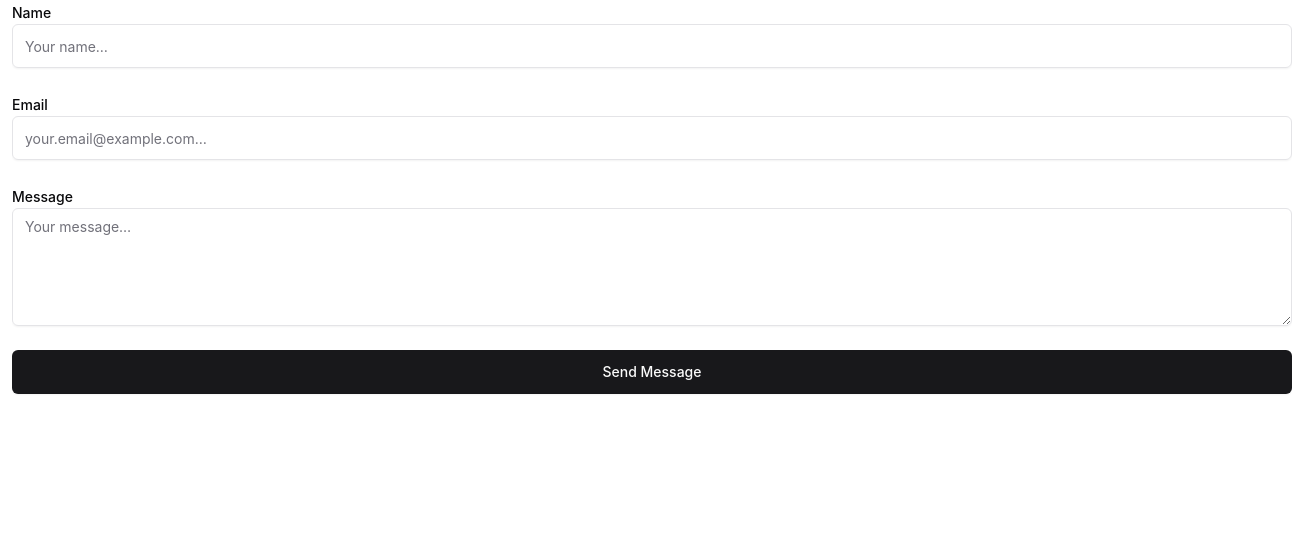
Test: ContactForm › shows error message on failure
Type "John Doe" into the field labelled "Name" at (652, 46), box x1=12 y1=24 x2=1292 y2=68
Press Tab
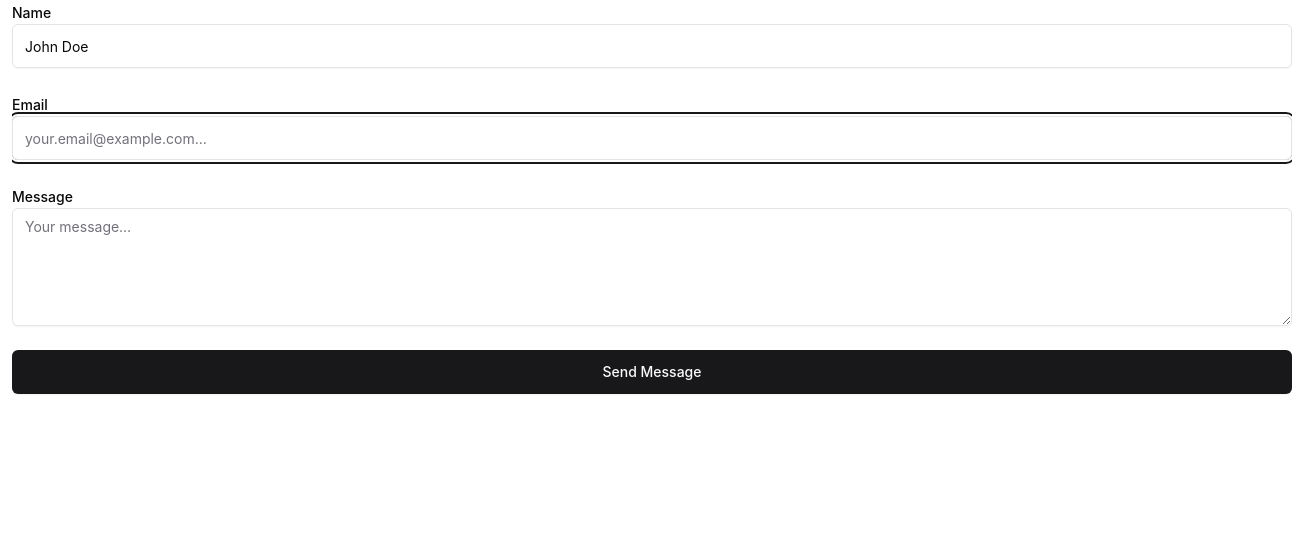
Type "john@example.com" into the field labelled "Email" at (652, 138), box x1=12 y1=116 x2=1292 y2=160
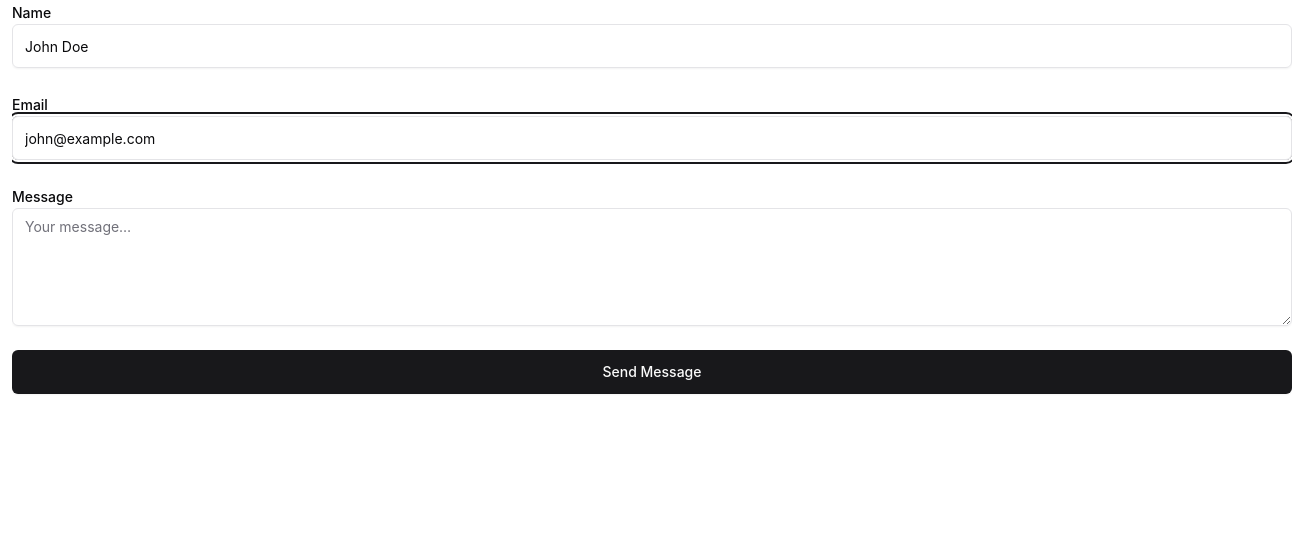
Press Tab
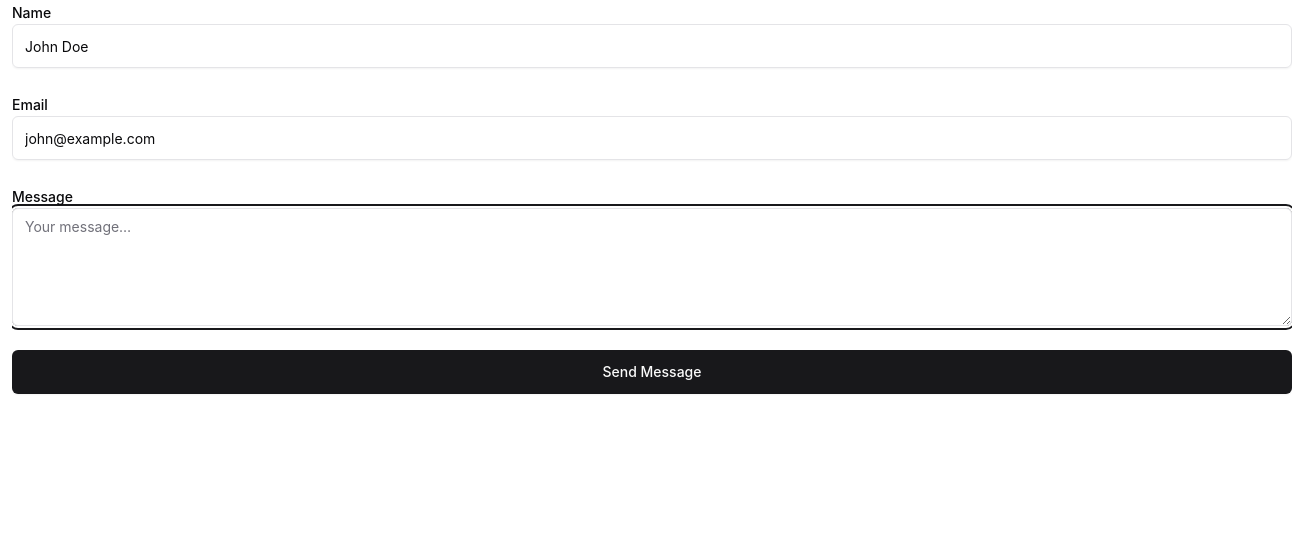
Type "This is a test message that is long enough for validation." into the text box labelled "Message" at (652, 267), box x1=12 y1=208 x2=1292 y2=326
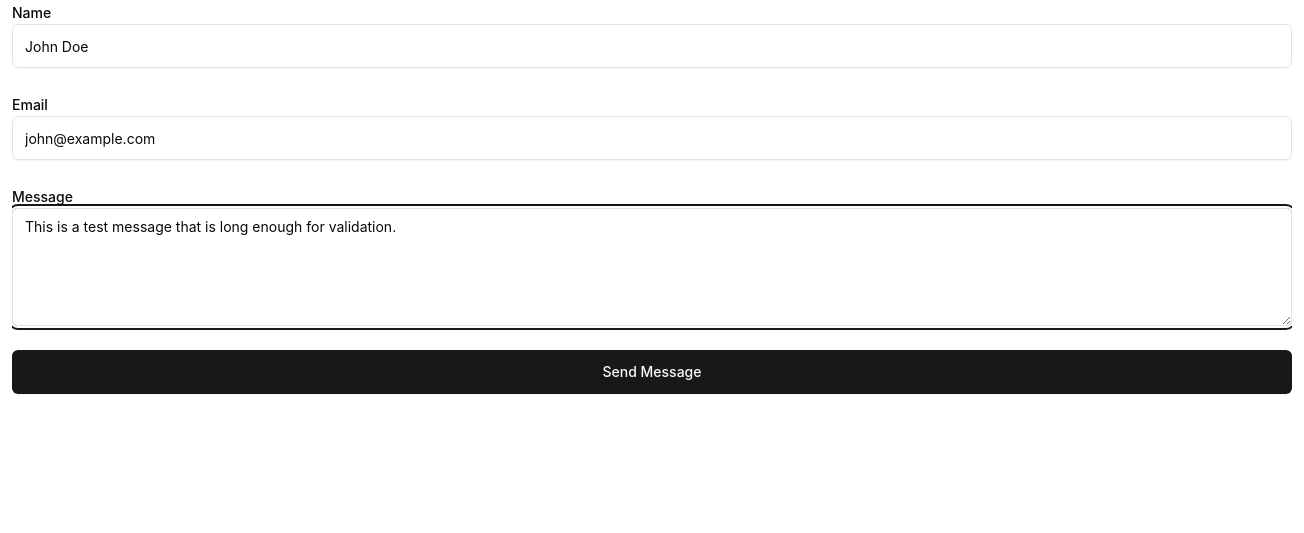
Press Tab
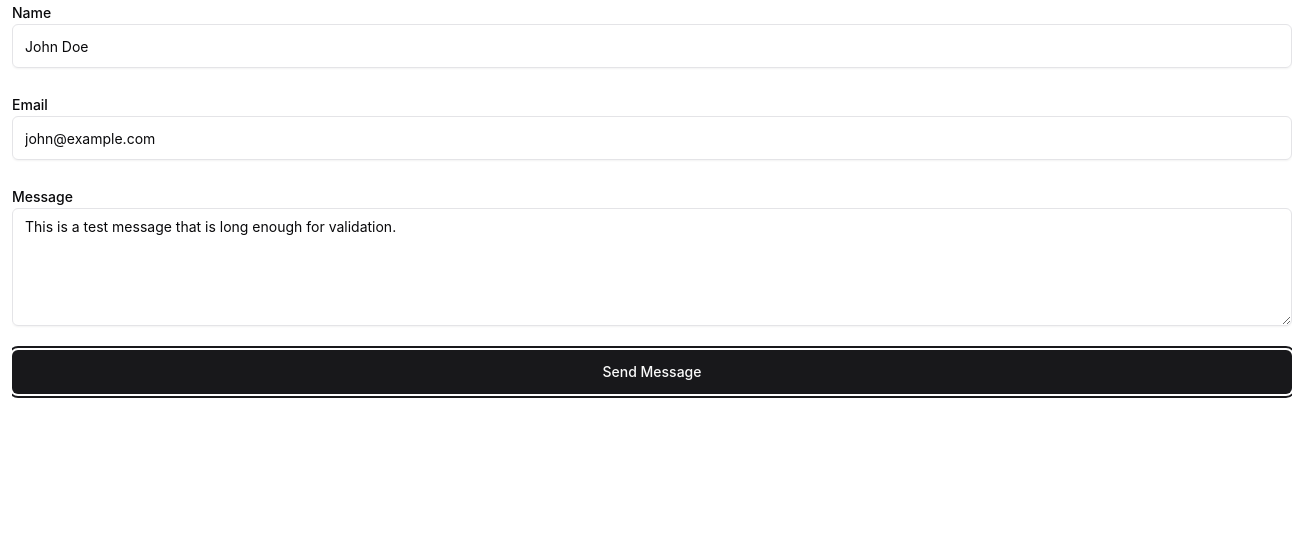
Click the button "Send Message" at (652, 372), box x1=12 y1=350 x2=1292 y2=394
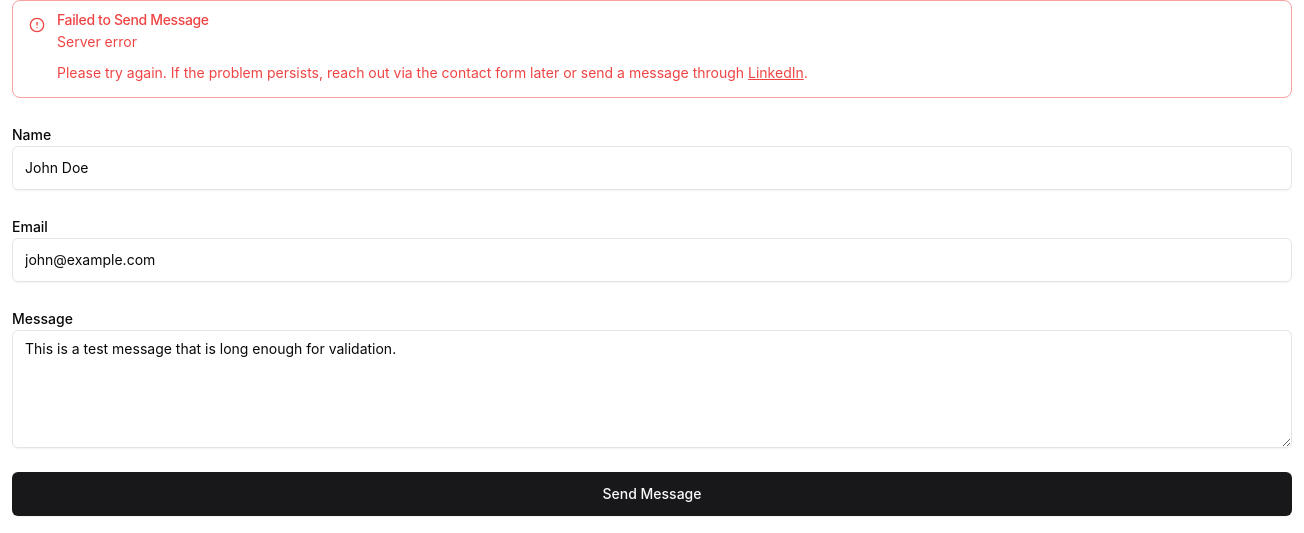
Expected: the heading "Failed to Send Message" is shown, x1=57 y1=11 x2=209 y2=28
Expected: the text "Server error" is shown, x1=57 y1=33 x2=137 y2=50
